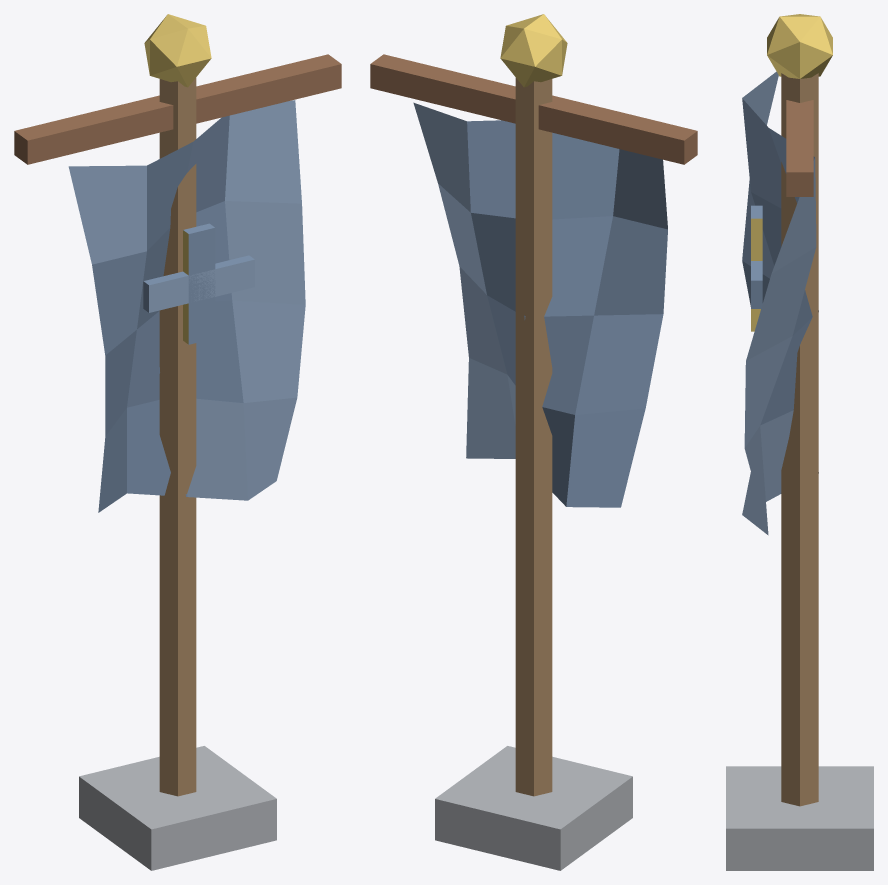
Rendered from animprop_banner_00.glb.
3 views of the same model, side by side, from view 1: azimuth 30°, elevation 25°; view 2: azimuth 150°, elevation 25°; view 3: azimuth 270°, elevation 25° (orthographic).
Visible parts, largest first — view 1: animprop; view 2: animprop; view 3: animprop.
Part boxes in pixels (left/top/right/bottom): animprop: left=14, top=14, right=341, bottom=870; animprop: left=370, top=14, right=697, bottom=870; animprop: left=726, top=14, right=873, bottom=870.
Bounding box in the file's own units: 0.95 × 2.34 × 0.38.
